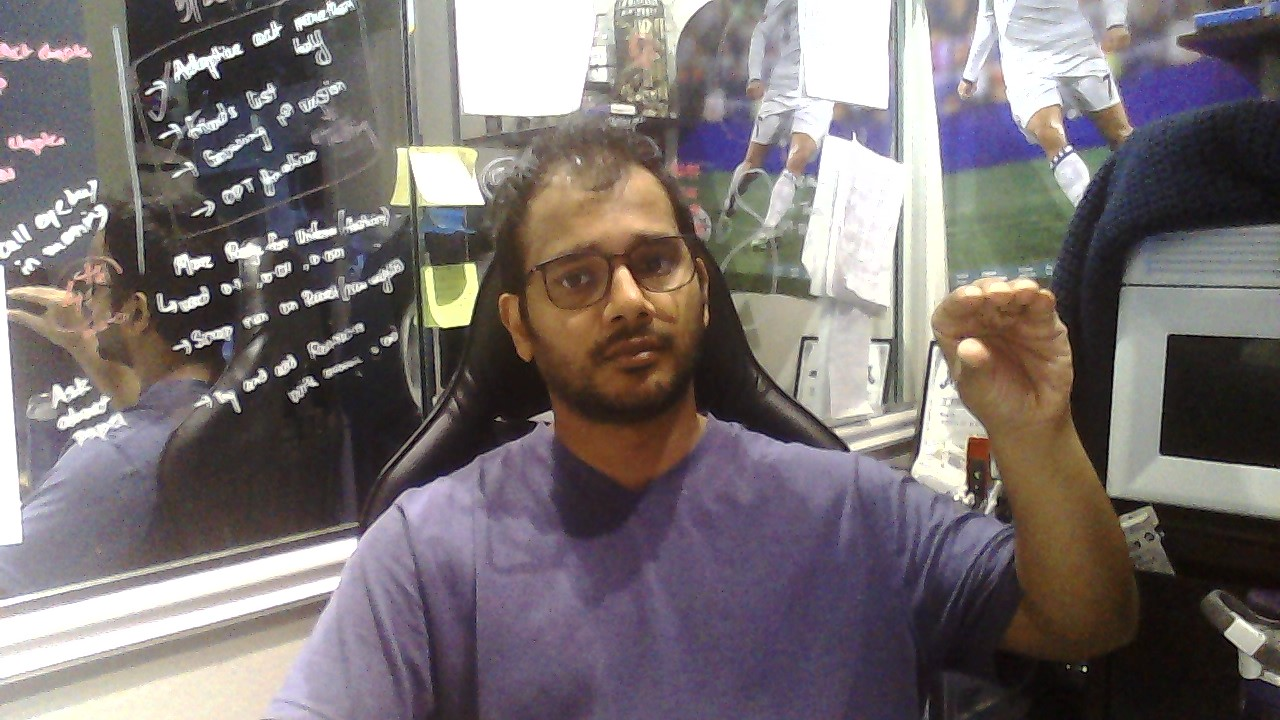No: (929, 277, 1076, 420)
